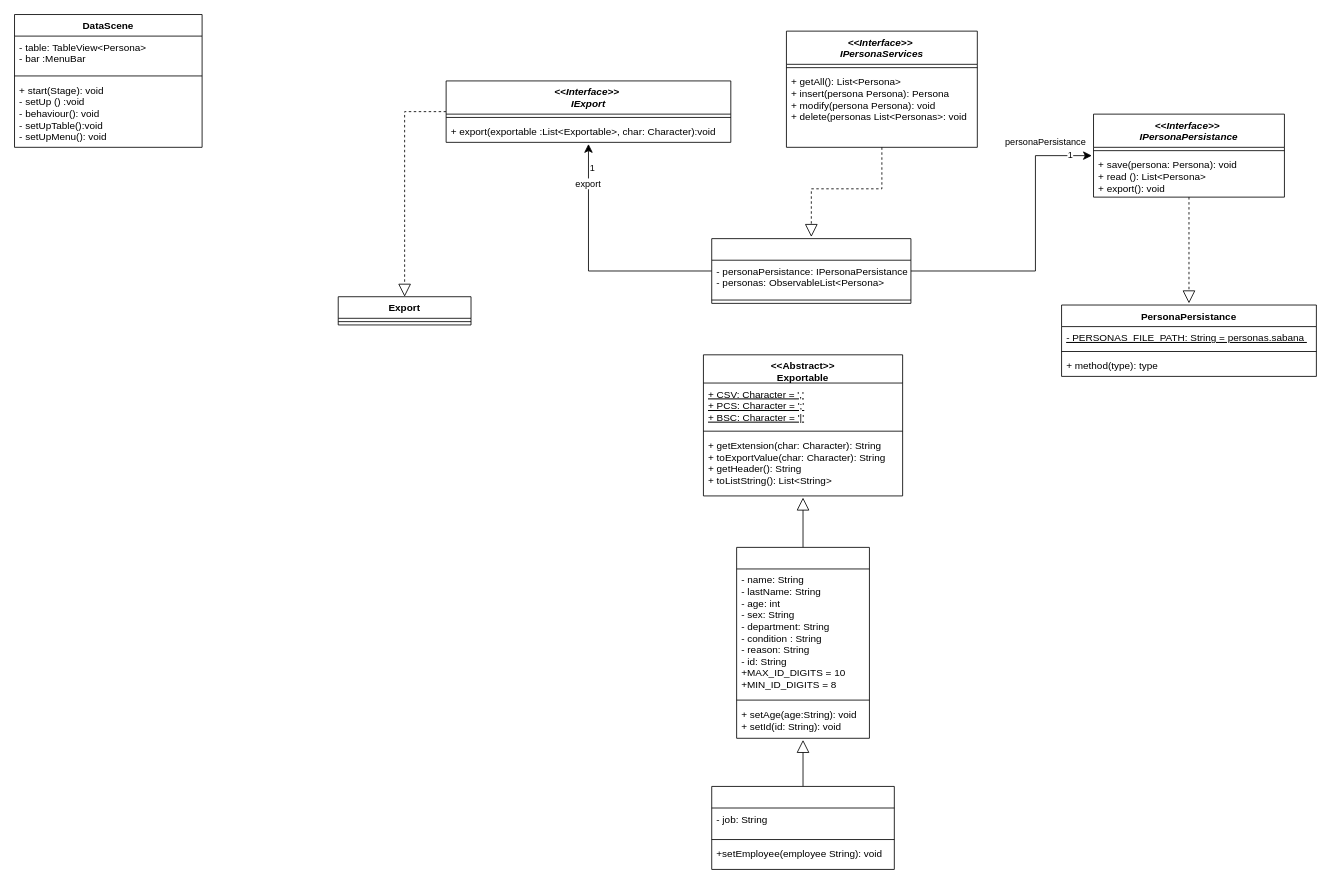
Image size: 1331x886. Some labels were removed from this diagram. Each missing label, with the box of its shape:
Persona: (736, 547, 869, 738)
PersonaServices: (711, 238, 911, 303)
PublicEmployee: (711, 786, 894, 869)
